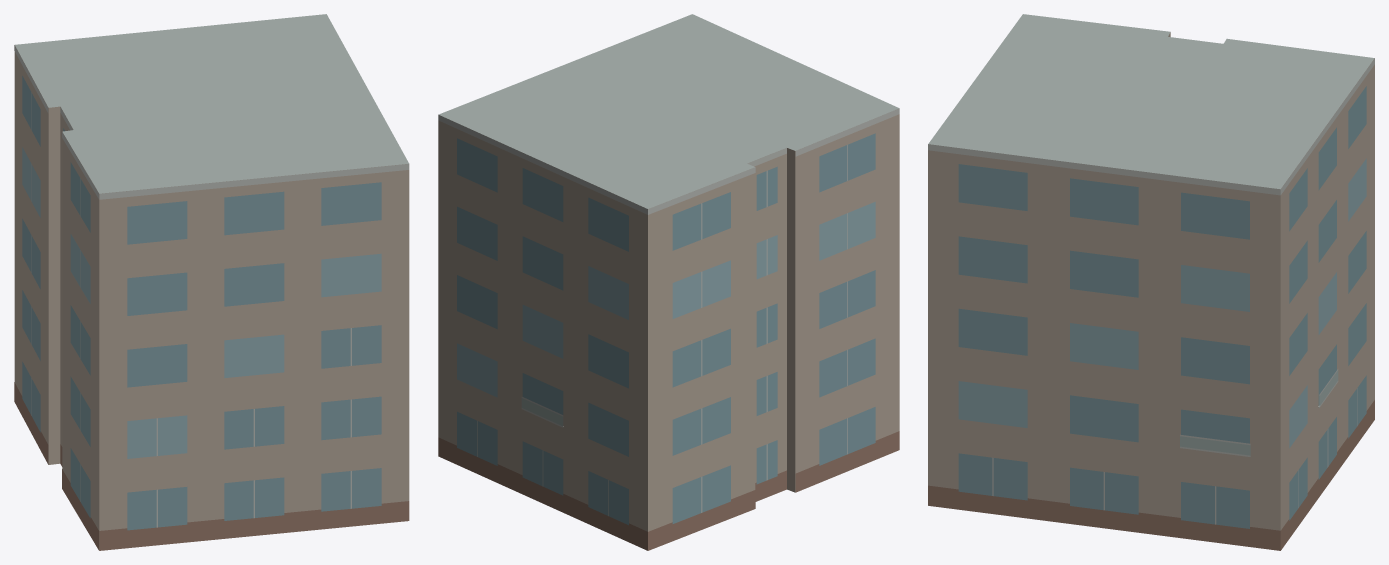
The model's file is survey-upis-32872704.glb.
The picture shows the model from 3 angles, left to right: view 1: azimuth 30°, elevation 25°; view 2: azimuth 150°, elevation 25°; view 3: azimuth 270°, elevation 25°; orthographic projection. The views are drawn at different scales.
Parts seen in each view (by area): view 1: survey-upis-32872704.tmp; view 2: survey-upis-32872704.tmp; view 3: survey-upis-32872704.tmp.
Part boxes in pixels (box(x1,y1,x2,y2)): survey-upis-32872704.tmp: box(14, 14, 409, 550); survey-upis-32872704.tmp: box(438, 14, 899, 550); survey-upis-32872704.tmp: box(928, 14, 1374, 550).
Size of the model in its own units: 14.87 by 14.3 by 16.02.
